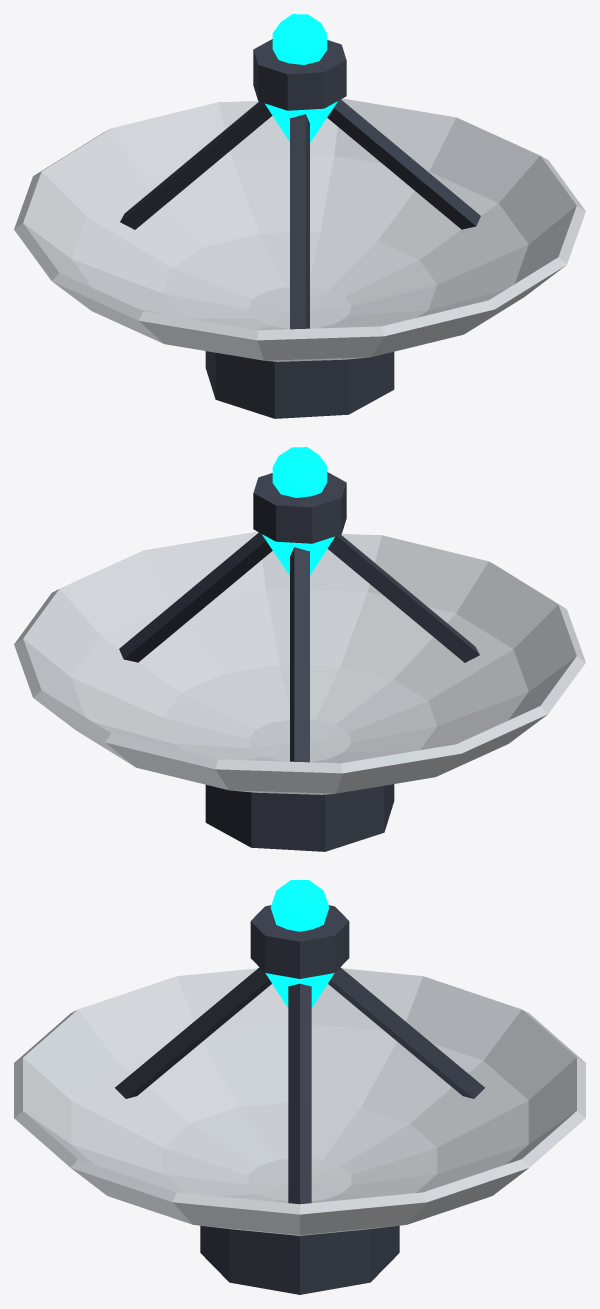
Rendered from Piece2.fbx.
3 views of the same model, one above another, from view 1: azimuth 30°, elevation 25°; view 2: azimuth 150°, elevation 25°; view 3: azimuth 270°, elevation 25° (orthographic). The views are drawn at different scales.
Parts seen in each view (by area): view 1: SM_Piece2_MAT_HullWhite, SM_Piece2_MAT_HullDark, SM_Piece2_MAT_GlowCyan; view 2: SM_Piece2_MAT_HullWhite, SM_Piece2_MAT_HullDark, SM_Piece2_MAT_GlowCyan; view 3: SM_Piece2_MAT_HullWhite, SM_Piece2_MAT_HullDark, SM_Piece2_MAT_GlowCyan.
Part boxes in pixels (x1,y1,x2,y2): SM_Piece2_MAT_HullWhite: (14, 98, 585, 361); SM_Piece2_MAT_HullDark: (120, 39, 480, 418); SM_Piece2_MAT_GlowCyan: (265, 14, 337, 142); SM_Piece2_MAT_HullWhite: (14, 531, 585, 794); SM_Piece2_MAT_HullDark: (119, 472, 479, 851); SM_Piece2_MAT_GlowCyan: (262, 447, 334, 575); SM_Piece2_MAT_HullWhite: (14, 968, 585, 1235); SM_Piece2_MAT_HullDark: (115, 905, 484, 1294); SM_Piece2_MAT_GlowCyan: (265, 880, 334, 1007).
Size of the model in its own units: 1.4 by 0.9786 by 1.36.
